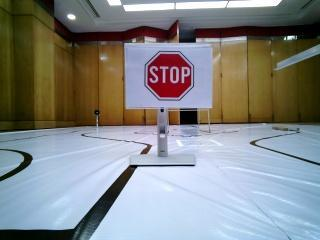stop: (128, 47, 206, 106)
